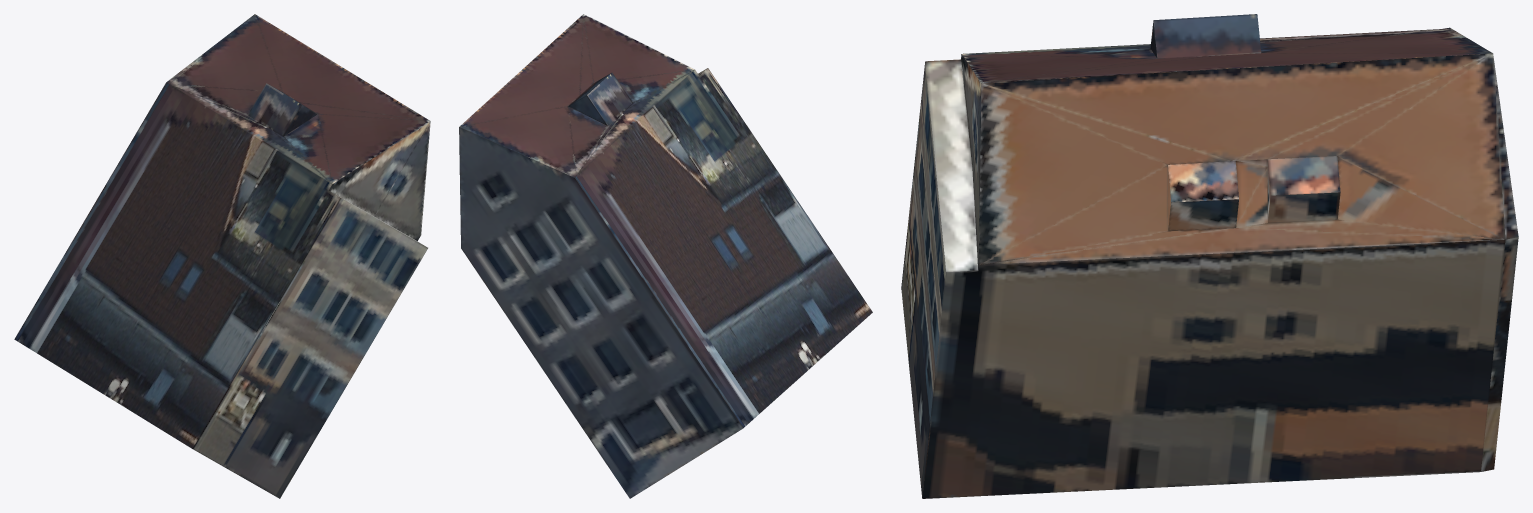
The picture shows the model from 3 angles, left to right: view 1: azimuth 30°, elevation 25°; view 2: azimuth 150°, elevation 25°; view 3: azimuth 270°, elevation 25°; orthographic projection. The views are drawn at different scales.
Parts seen in each view (by area): view 1: BAG_0599100000603392 (×5); view 2: BAG_0599100000603392 (×4); view 3: BAG_0599100000603392 (×5).
Boxes of the visible parts, x1,y1,x2,y2 form: BAG_0599100000603392 (×5): (14,14,430,498); BAG_0599100000603392 (×4): (459,14,872,498); BAG_0599100000603392 (×5): (901,14,1518,498).
Bounding box in the file's own units: 14.93 × 16.25 × 16.12.
6 materials, 6 textured.
